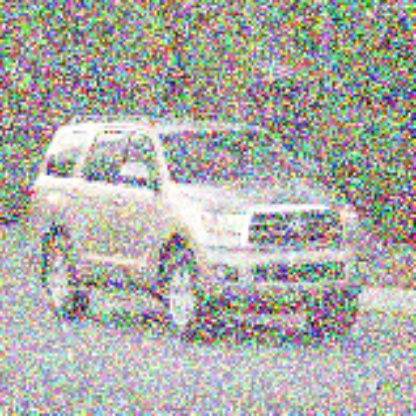Vehicle: (24, 110, 374, 343)
